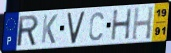C: (88, 11, 105, 42)
H: (130, 6, 154, 42), (110, 8, 133, 42)
K: (40, 14, 59, 45)
R: (17, 14, 40, 48)
V: (66, 10, 86, 45)
